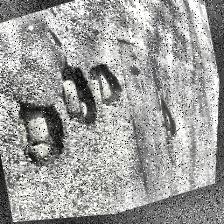pothole: (9, 88, 74, 174), (54, 54, 104, 134), (86, 59, 128, 113), (156, 96, 182, 146)
